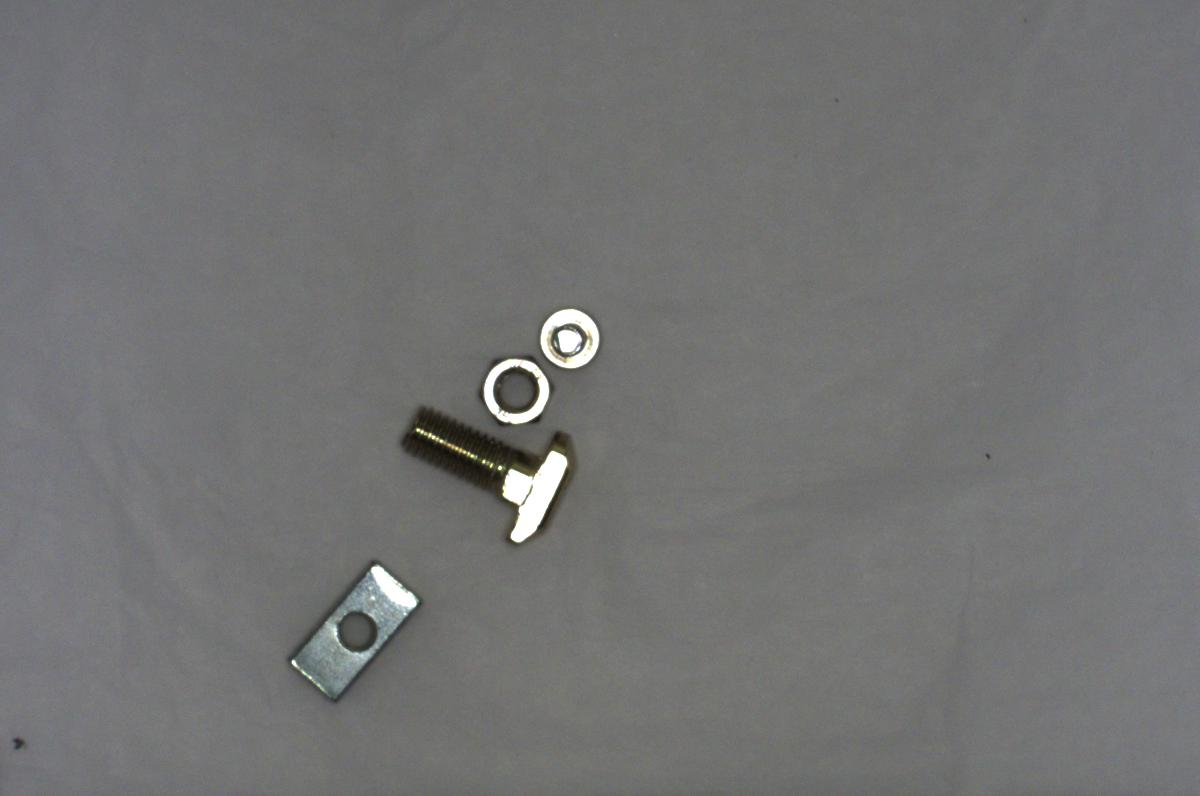Hexagon nut: (475, 353, 557, 430)
Rectangular nut: (287, 546, 433, 709)
T-shaped screw: (388, 398, 579, 549)
